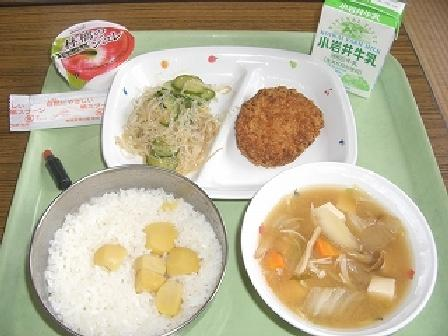Cup desserts: (36, 16, 150, 92)
Milk: (309, 0, 409, 88)
Mixed rice: (35, 164, 237, 329)
Salad: (128, 72, 222, 171)
Soups: (243, 164, 437, 328)
cutlet: (235, 85, 330, 167)
